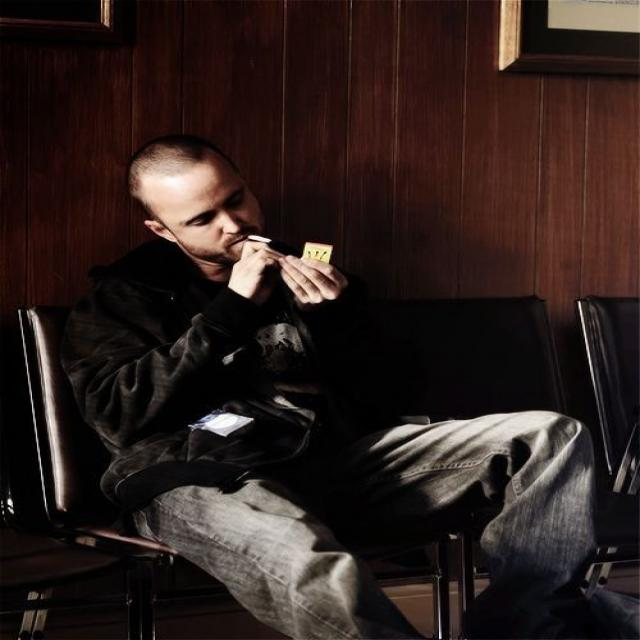smoke: (247, 230, 280, 248)
